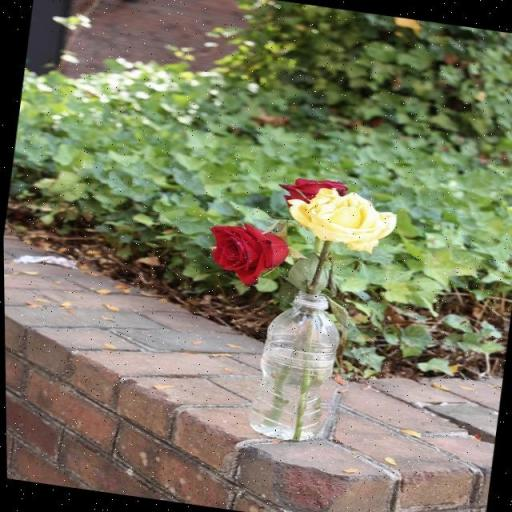plastic: (249, 292, 343, 442)
